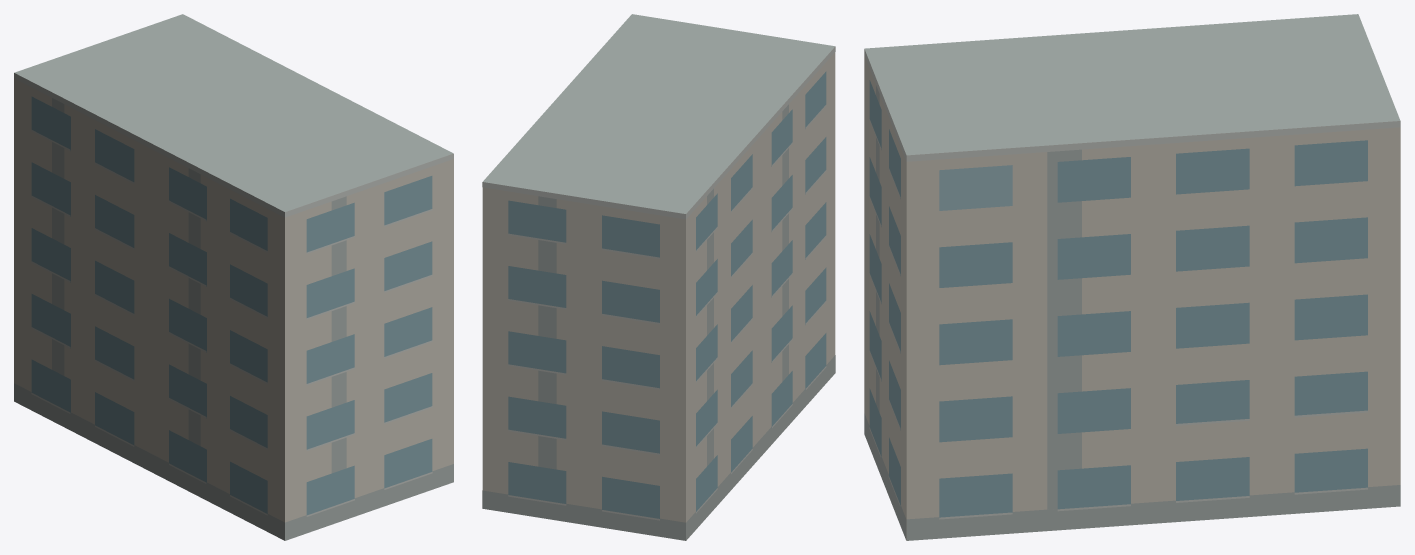
Rendered from survey-upis-32608106.glb.
The picture shows the model from 3 angles, left to right: view 1: azimuth 30°, elevation 25°; view 2: azimuth 150°, elevation 25°; view 3: azimuth 270°, elevation 25°; orthographic projection. The views are drawn at different scales.
Visible parts, largest first — view 1: survey-upis-32608106.tmp; view 2: survey-upis-32608106.tmp; view 3: survey-upis-32608106.tmp.
Part boxes in pixels (x1,y1,x2,y2): survey-upis-32608106.tmp: (14, 14, 453, 540); survey-upis-32608106.tmp: (482, 14, 835, 540); survey-upis-32608106.tmp: (864, 14, 1400, 540).
Size of the model in its own units: 11.45 by 14.55 by 18.35.
